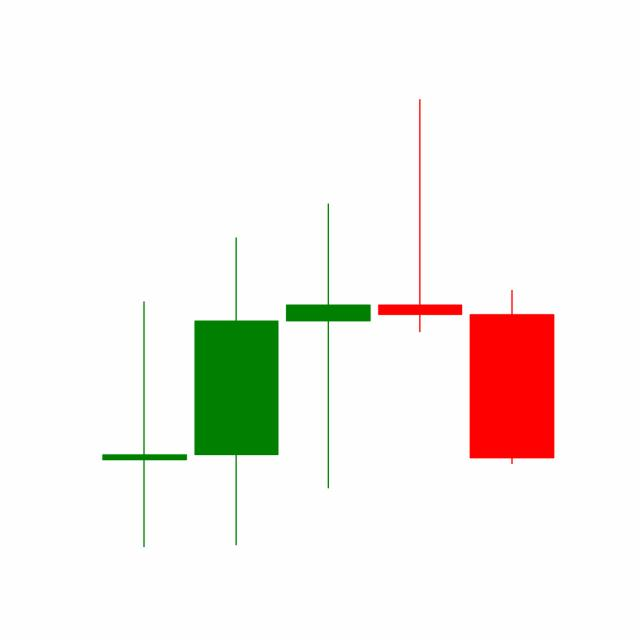Marubozu: (464, 288, 558, 467)
